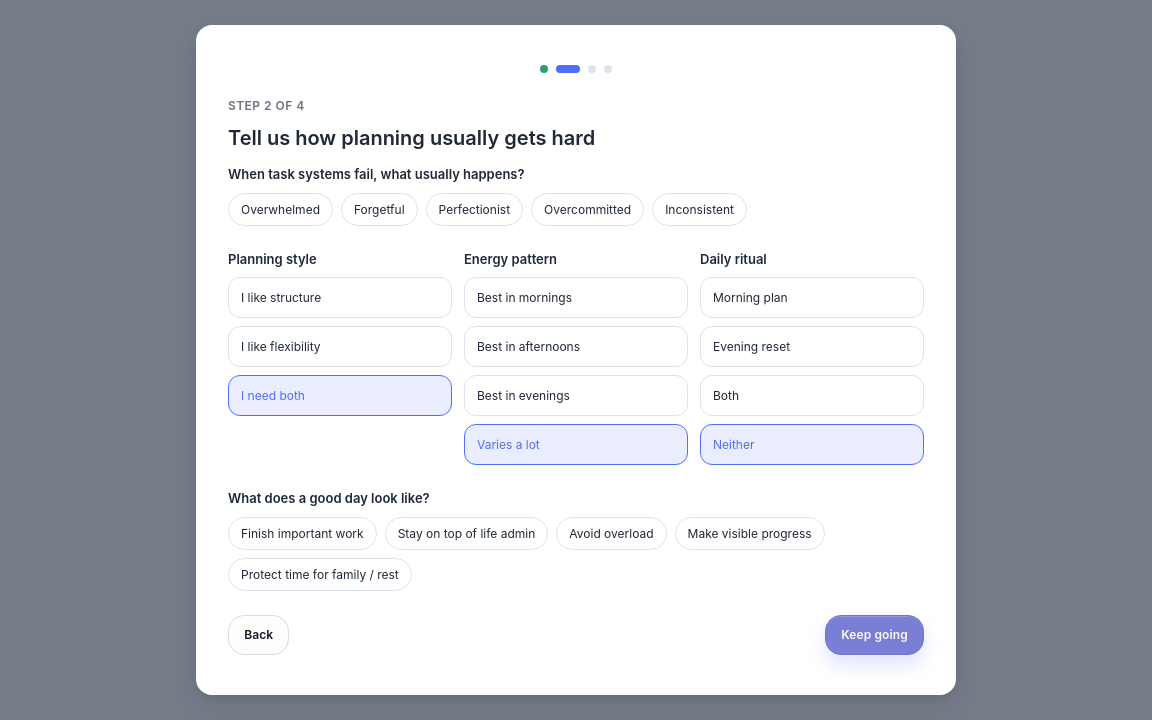
Test: OnboardingFlow › navigation › goes back from step 2 to step 1 on Back click
The width and height of the screenshot is (1152, 720).
Click the button "Back". click: (259, 635)
box: [228, 615, 290, 655]
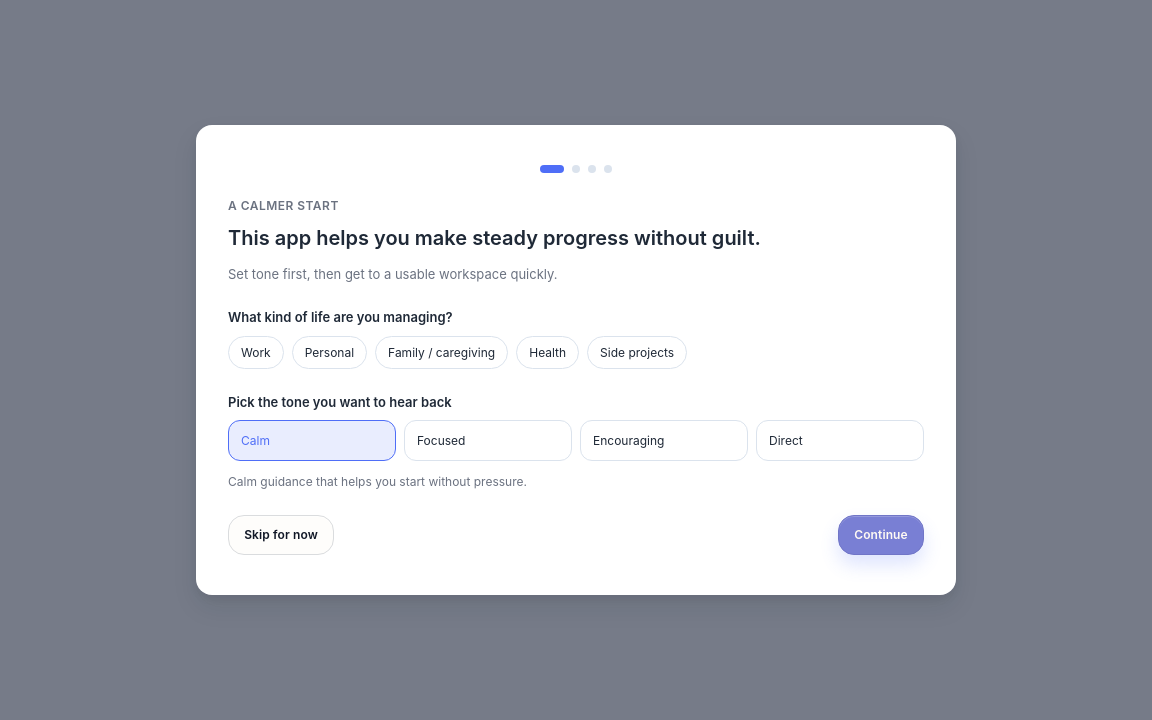
Expected: the text "A calmer start" is shown, [228, 198, 339, 213]
